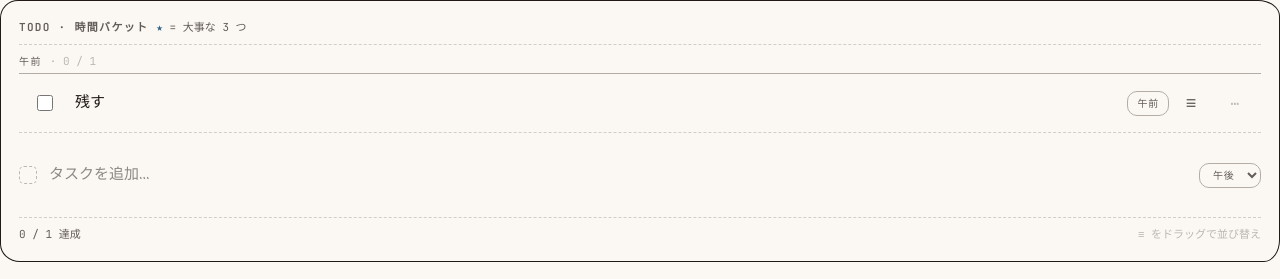
TodoCard › 空文字で Enter しても updateTodo は呼ばれず元テキストが残る
Click the button with aria-label "残す を編集" at (90, 102), box x1=75 y1=92 x2=1119 y2=114
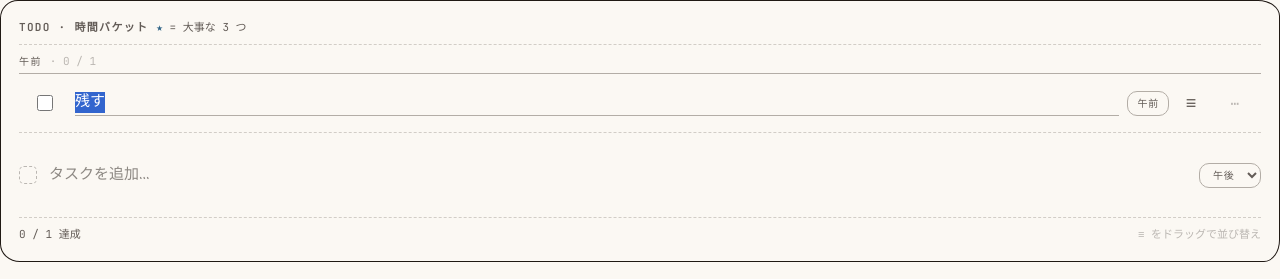
Clear the field named "タスク本文を編集" at (597, 103), box x1=75 y1=90 x2=1119 y2=116
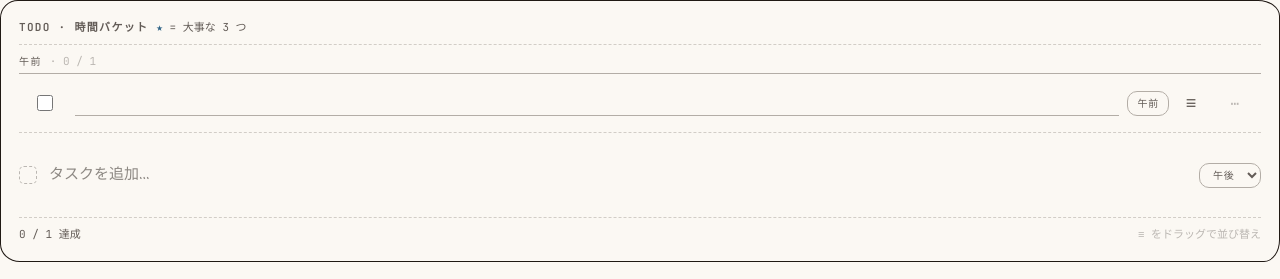
Press Enter
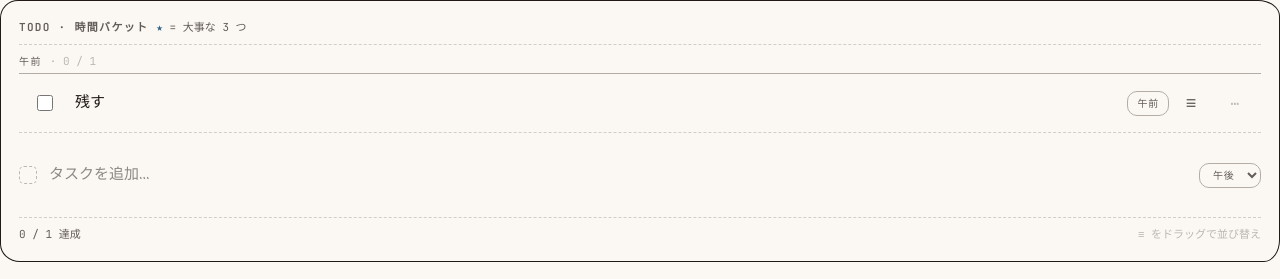
Expected: the button with aria-label "残す を編集" is shown, x1=75 y1=92 x2=1119 y2=114
